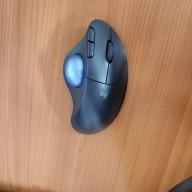mouse: (61, 7, 133, 145)
